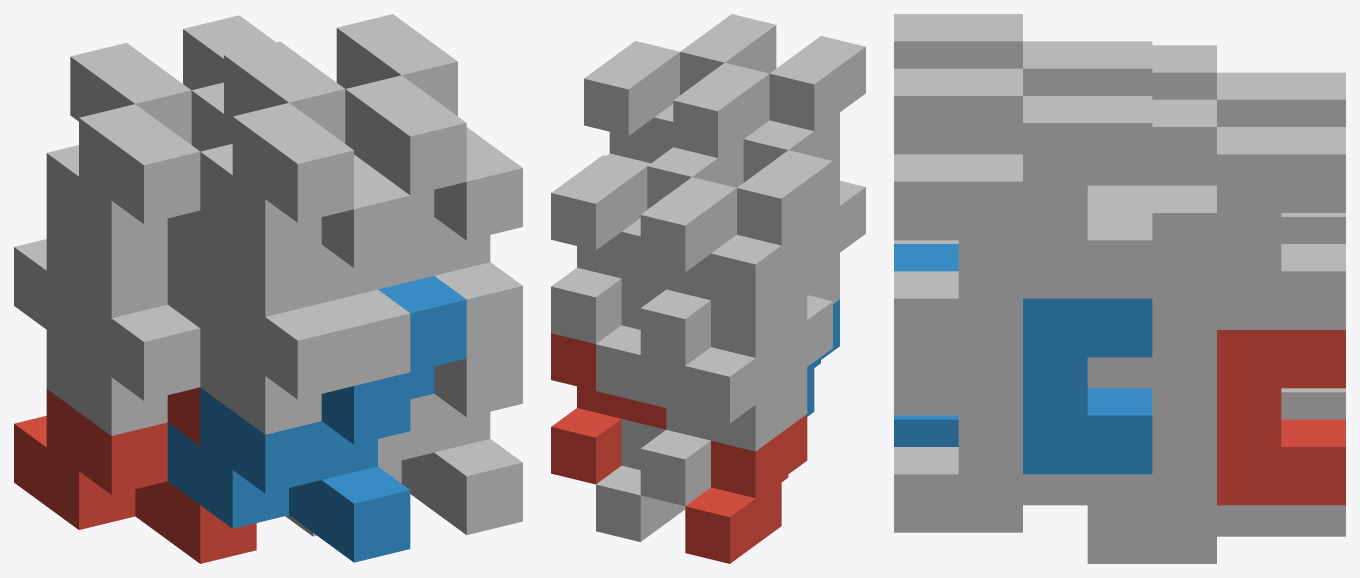
The model's file is tiling.obj.
The picture shows the model from 3 angles, left to right: view 1: azimuth 30°, elevation 25°; view 2: azimuth 150°, elevation 25°; view 3: azimuth 270°, elevation 25°; orthographic projection. The views are drawn at different scales.
Parts seen in each view (by area): view 1: copy_1_domain_2, copy_1_domain_4, copy_2_domain_3, copy_2_domain_4, copy_1_domain_1, copy_2_domain_8, copy_1_domain_6, copy_1_domain_8, copy_2_domain_1, copy_2_domain_2, copy_1_domain_3, copy_2_domain_7 (+1 smaller); view 2: copy_2_domain_3, copy_2_domain_7, copy_2_domain_4, copy_2_domain_1, copy_2_domain_8, copy_1_domain_1, copy_1_domain_3, copy_2_domain_5, copy_1_domain_5, copy_1_domain_7, copy_2_domain_2, copy_1_domain_2 (+1 smaller); view 3: copy_2_domain_8, copy_2_domain_7, copy_1_domain_6, copy_1_domain_8, copy_2_domain_6, copy_2_domain_5, copy_1_domain_5, copy_1_domain_7, copy_2_domain_4, copy_2_domain_3, copy_1_domain_2, copy_2_domain_1.
Boxes of the visible parts, x1,y1,x2,y2 form: copy_1_domain_2: (167,372,410,562); copy_1_domain_4: (167,154,410,385); copy_2_domain_3: (46,43,200,259); copy_2_domain_4: (200,41,353,257); copy_1_domain_1: (14,387,256,563); copy_2_domain_8: (336,14,466,222); copy_1_domain_6: (378,345,522,534); copy_1_domain_8: (378,127,522,358); copy_2_domain_1: (46,295,200,435); copy_2_domain_2: (200,293,353,434); copy_1_domain_3: (14,210,200,352); copy_2_domain_7: (183,15,275,151); copy_2_domain_3: (640,150,832,365); copy_2_domain_7: (551,139,743,343); copy_2_domain_4: (673,36,865,182); copy_2_domain_1: (640,295,832,505); copy_2_domain_8: (584,14,776,165); copy_1_domain_1: (685,414,807,563); copy_1_domain_3: (685,274,807,423); copy_2_domain_5: (551,333,666,484); copy_1_domain_5: (596,419,685,541); copy_1_domain_7: (596,278,665,401); copy_2_domain_2: (807,181,865,304); copy_1_domain_2: (807,300,839,416); copy_2_domain_8: (894,68,1152,298); copy_2_domain_7: (1087,99,1345,329); copy_1_domain_6: (894,357,1152,532); copy_1_domain_8: (894,154,1022,357); copy_2_domain_6: (894,244,1152,474); copy_2_domain_5: (1217,330,1345,505); copy_1_domain_5: (1087,388,1345,563); copy_1_domain_7: (1087,185,1216,388); copy_2_domain_4: (894,14,1152,95); copy_2_domain_3: (1152,45,1345,243); copy_1_domain_2: (894,415,958,446); copy_2_domain_1: (1281,388,1345,419).
Size of the model in its own units: 5 by 8 by 7.
